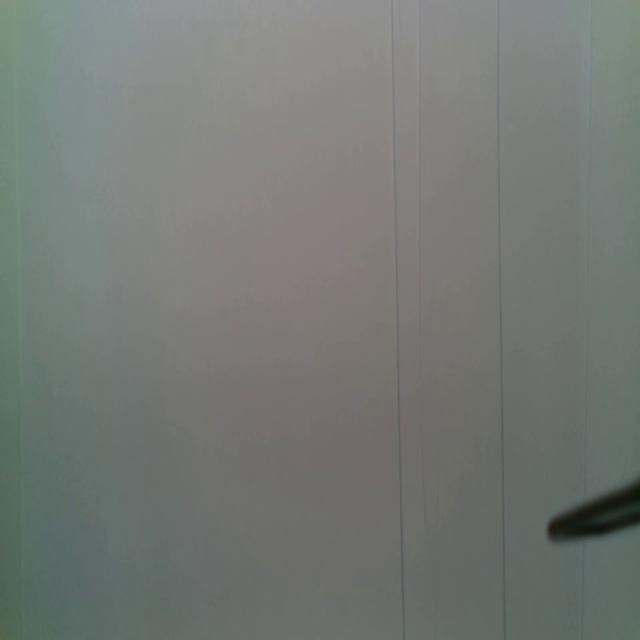crease: (390, 0, 406, 640), (12, 0, 26, 640), (496, 2, 508, 639), (582, 0, 596, 498), (416, 2, 428, 520), (577, 538, 589, 639)
